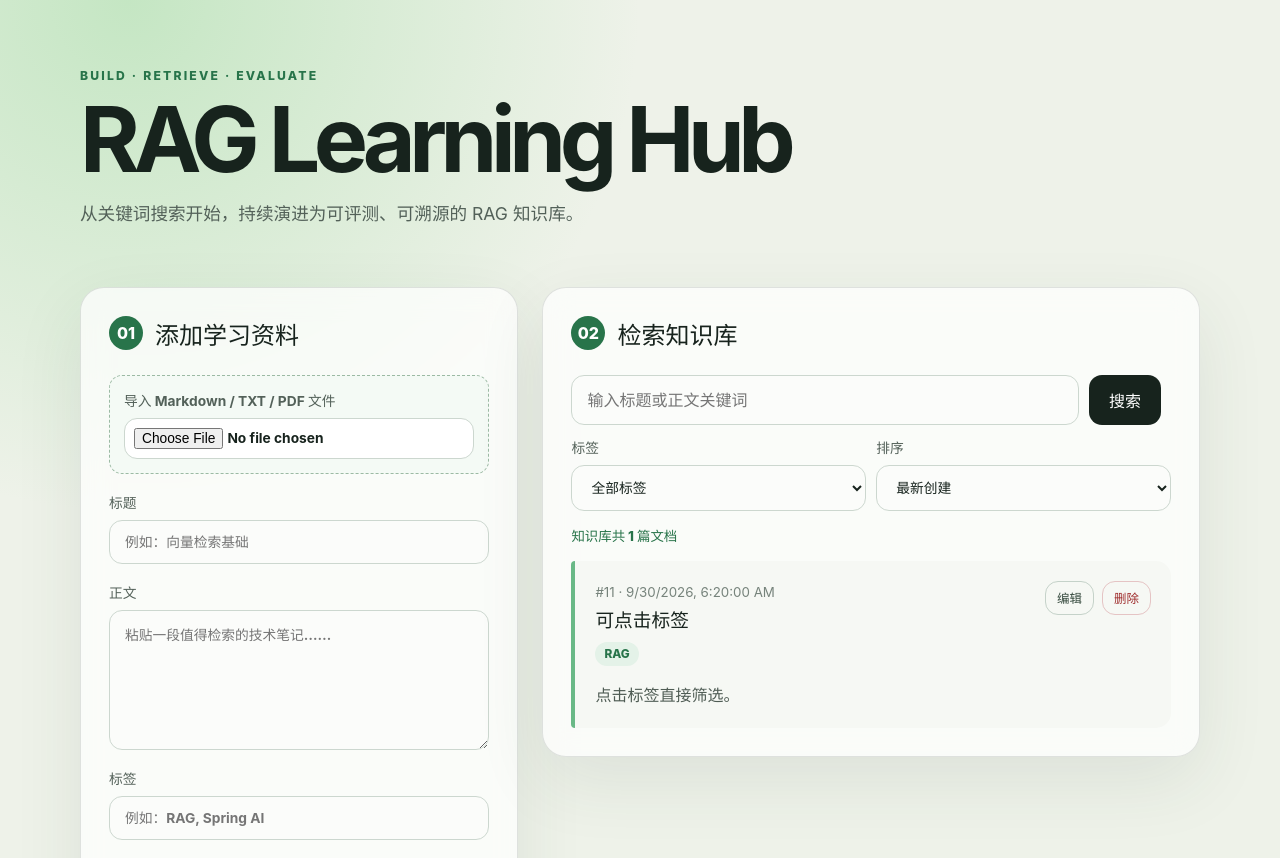
Test case: App › filters documents when a displayed tag is clicked
Click the button with class "tag-pill" at (617, 654), box [595,642,639,666]
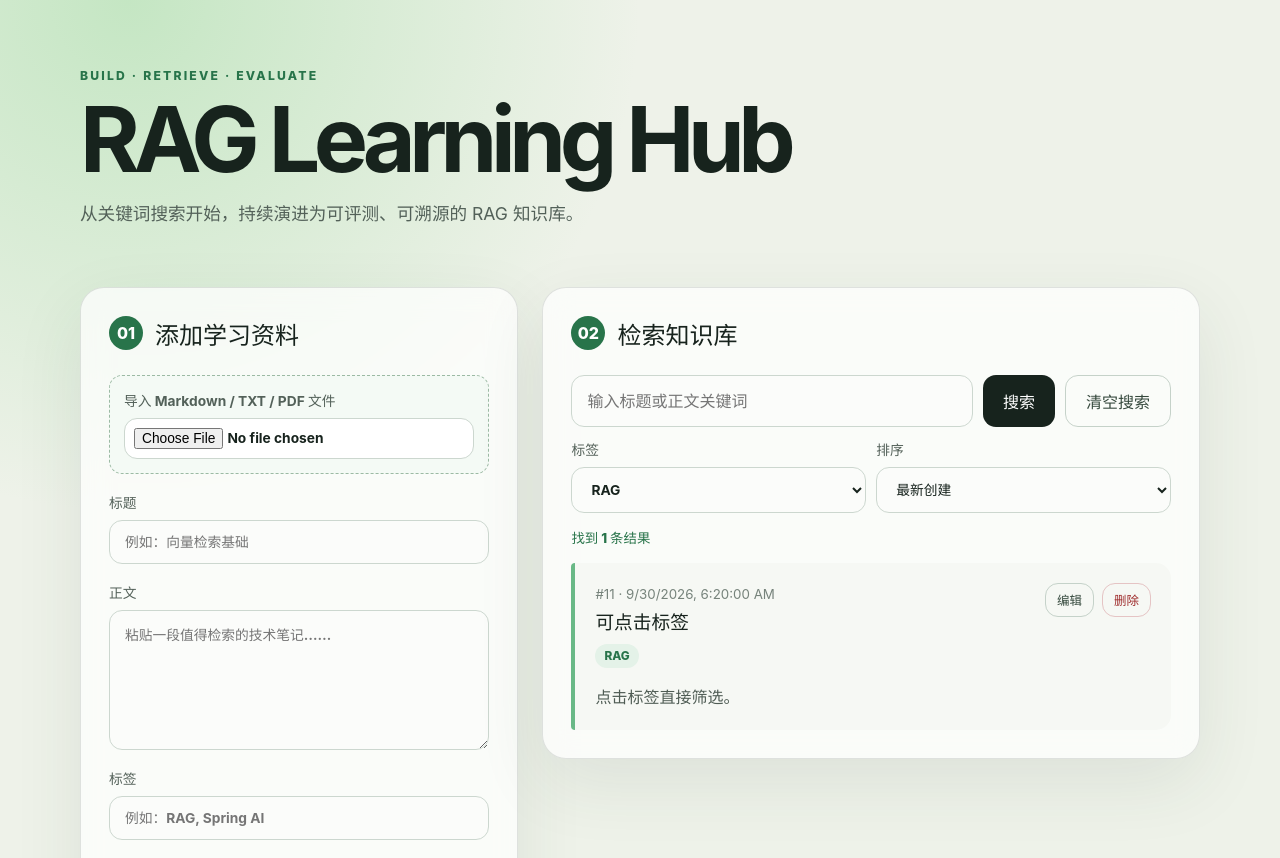
Now the text with class "result-summary" reads "找到 1 条结果", box [571,530,650,546]
